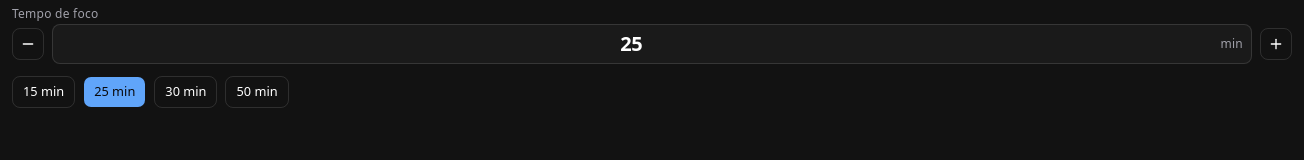
Test case: FocusTimePicker › supports presets and one-minute increments
The width and height of the screenshot is (1304, 160).
Expected: the number field labelled "Tempo de foco" holds "25", 61,31 -> 1216,57
Click the button named "Aumentar tempo de foco" at (1276, 44), box 1260,28 -> 1292,60
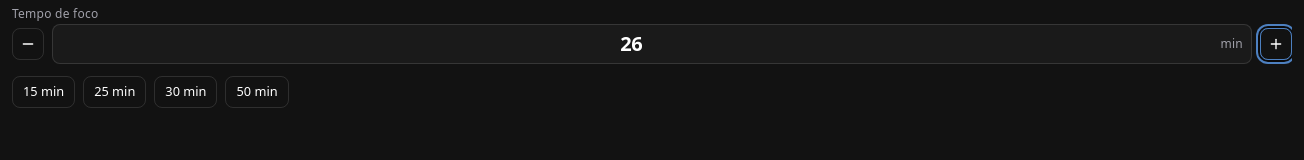
Result: the number field labelled "Tempo de foco" holds "26" at 61,31 -> 1216,57
Click the button "30 min" at (186, 92), box 154,76 -> 218,108
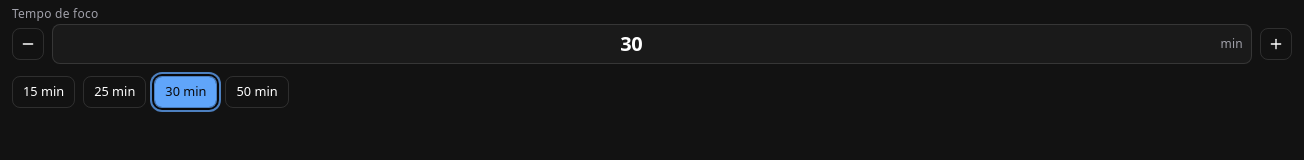
Result: the number field labelled "Tempo de foco" holds "30" at 61,31 -> 1216,57
Click the button "50 min" at (257, 92), box 226,76 -> 289,108
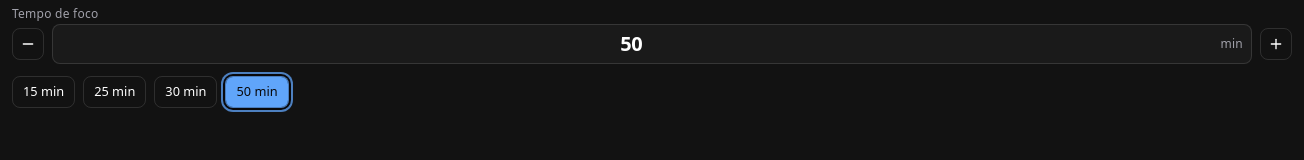
Result: the number field labelled "Tempo de foco" holds "50" at 61,31 -> 1216,57
Click the button named "Reduzir tempo de foco" at (28, 44), box 12,28 -> 44,60
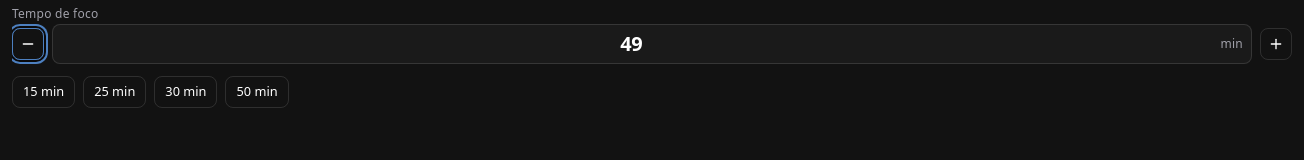
Result: the number field labelled "Tempo de foco" holds "49" at 61,31 -> 1216,57
